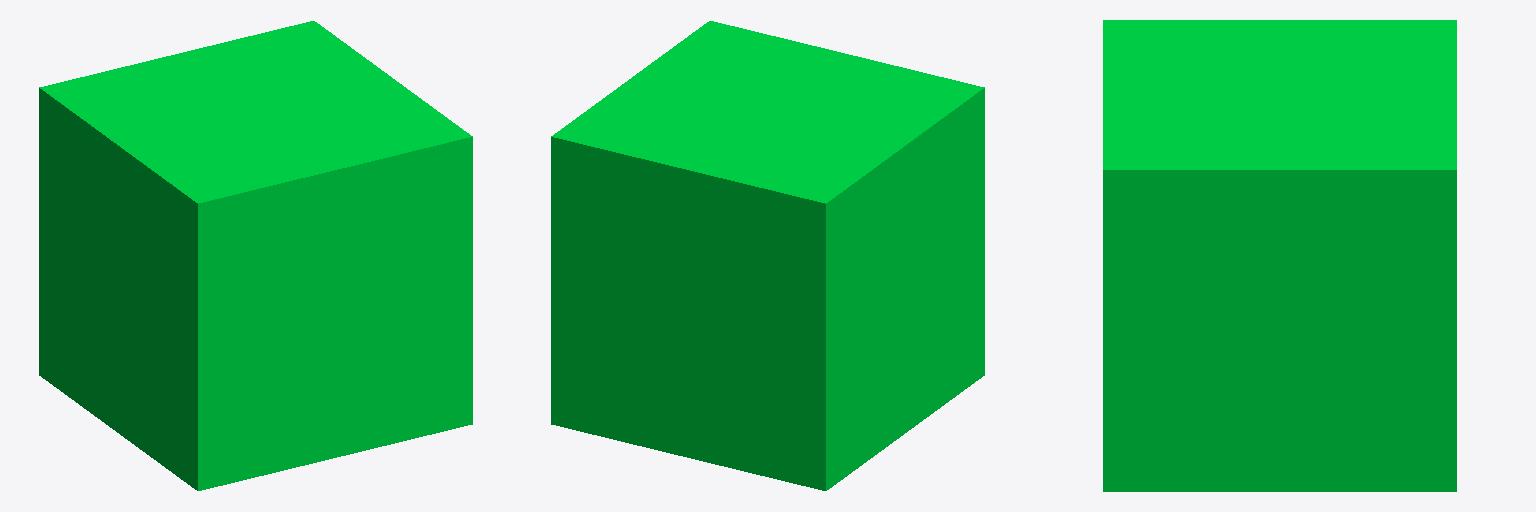
URDF robot description (block_2):
<?xml version="1.0"?>
<robot name="block_2">
  <link name="block_2_base_link">
    <inertial>
      <origin rpy="0 0 0" xyz="0 0 0"/>
      <mass value="10"/>
      <inertia ixx="1" ixy="0" ixz="0" iyy="1" iyz="0" izz="1"/>
    </inertial>
    <visual>
      <origin rpy="0 0 0" xyz="0.0 0.0 0.0"/>
      <geometry>
        <mesh filename="block.obj" scale="0.2 0.2 0.2"/>
      </geometry>
      <material name="blockmat">
        <color rgba="0.0 0.9 0.3 0.6"/>
      </material>
    </visual>
    <collision>
      <origin rpy="0 0 0" xyz="0.0 0.0 0.0"/>
      <geometry>
        <box size="0.2 0.2 0.2"/>
      </geometry>
    </collision>
  </link>
</robot>

--- Facts derived from the render (not from the file) ---
Views: 3 orthographic renders of the robot side by side, from view 1: azimuth 30°, elevation 25°; view 2: azimuth 150°, elevation 25°; view 3: azimuth 270°, elevation 25°.
Robot: block_2 — 1 links, 0 joints (none); root link block_2_base_link; default pose: every joint at zero.
Visible links, largest first — view 1: block_2_base_link; view 2: block_2_base_link; view 3: block_2_base_link.
Boxes of the visible links, x1,y1,x2,y2 form: block_2_base_link: (39,21,472,490); block_2_base_link: (551,21,984,490); block_2_base_link: (1103,20,1456,491).
Size in the robot's own frame: 0.2 by 0.2 by 0.2 metres.
1 mesh visuals loaded from 1 distinct referenced files (1 OBJ).